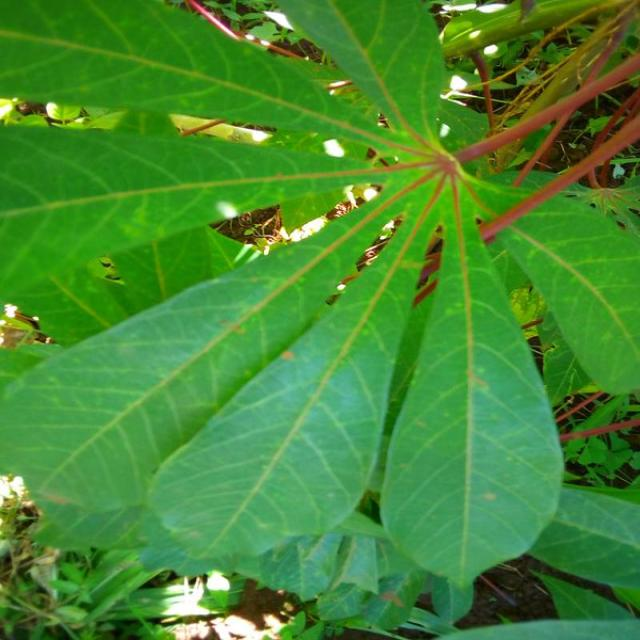cassava leaf: (1, 1, 638, 626), (378, 172, 565, 591)
